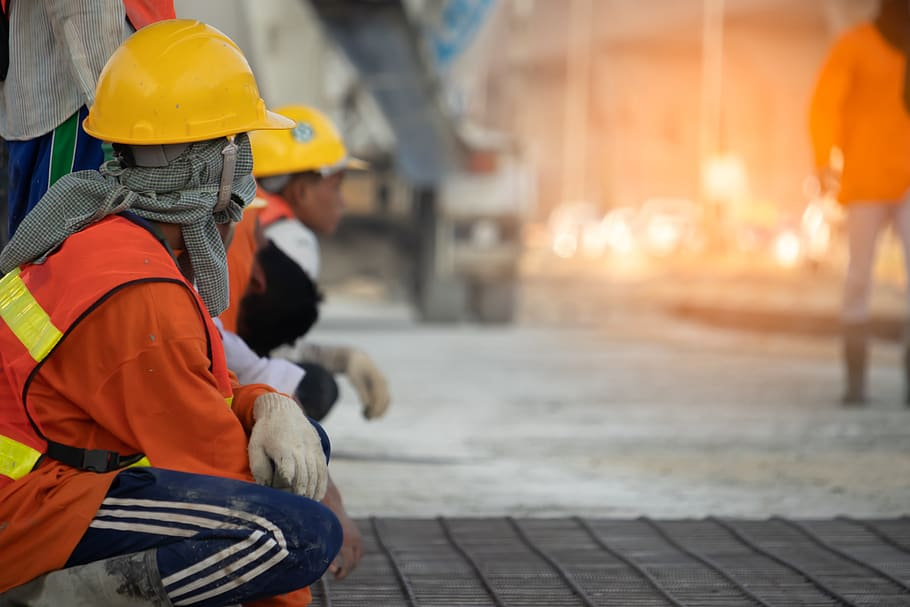Hard Hat: (90, 19, 298, 243), (260, 107, 373, 234)
Person: (9, 28, 343, 607), (259, 108, 433, 426), (808, 6, 910, 412), (2, 2, 177, 190), (233, 226, 335, 409)
Vest: (6, 130, 231, 487)
